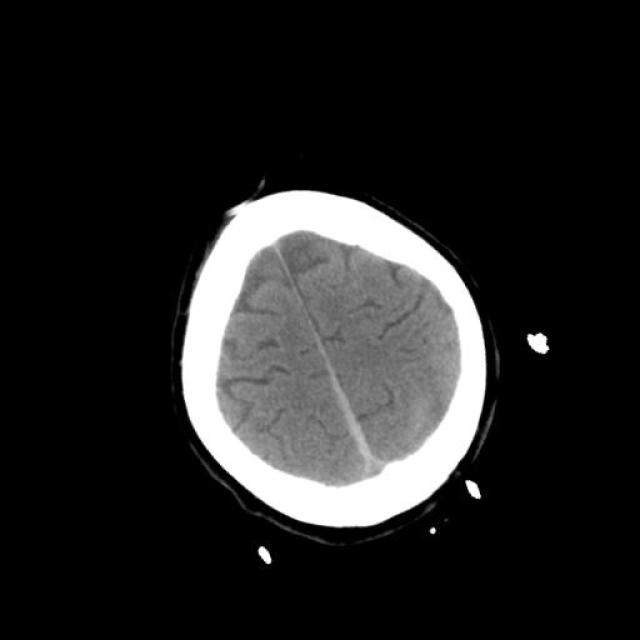Subdural: (289, 337, 417, 512)
